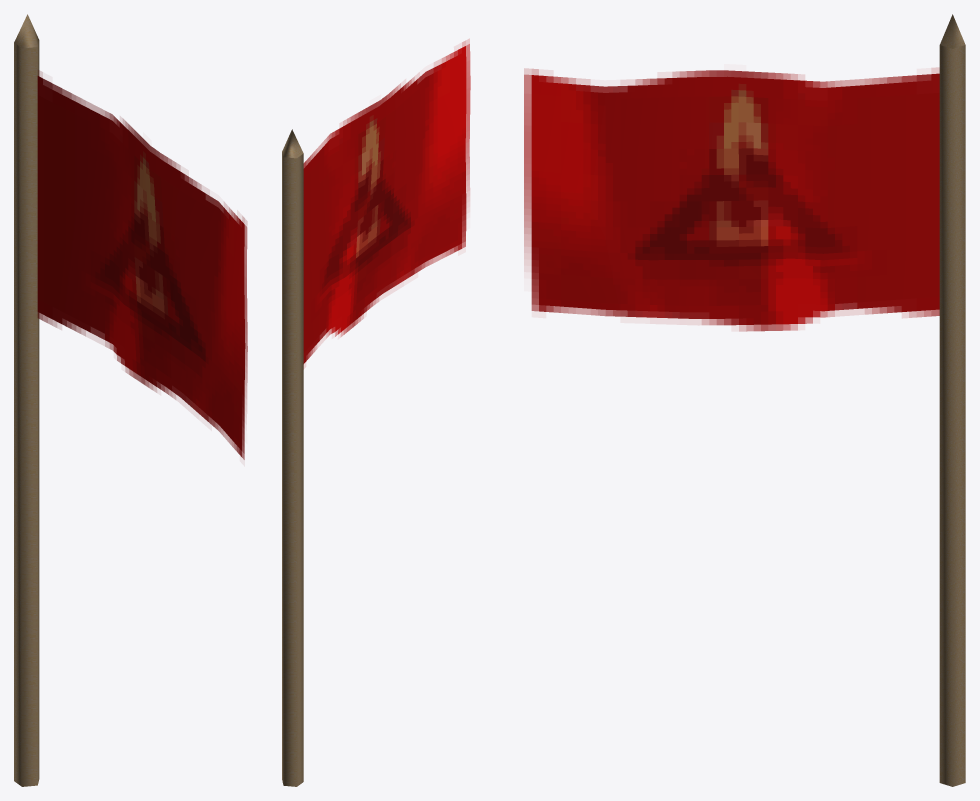
The model's file is Flagred.glb.
3 views of the same model, side by side, from view 1: azimuth 30°, elevation 25°; view 2: azimuth 150°, elevation 25°; view 3: azimuth 270°, elevation 25° (orthographic). The views are drawn at different scales.
Visible parts, largest first — view 1: _Flagred; view 2: _Flagred; view 3: _Flagred.
Part boxes in pixels (bbox=[...]): _Flagred: bbox=[14, 14, 247, 786]; _Flagred: bbox=[282, 39, 470, 786]; _Flagred: bbox=[524, 14, 965, 786].
Size of the model in its own units: 0.0449 by 0.9618 by 0.5206.
2 materials, 2 textured.
